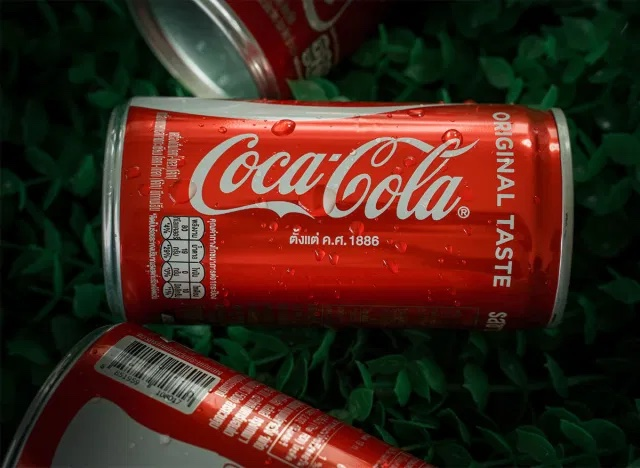can: (93, 83, 579, 346), (1, 312, 450, 465), (118, 3, 422, 96)
